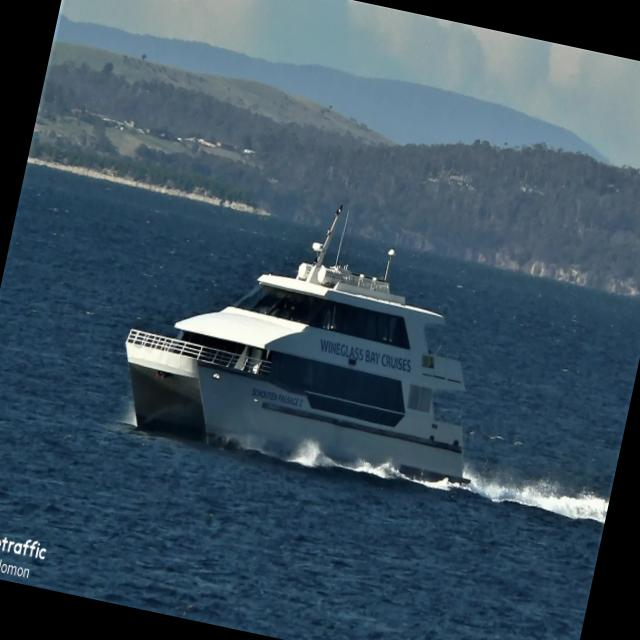Passenger: (125, 208, 465, 481)
